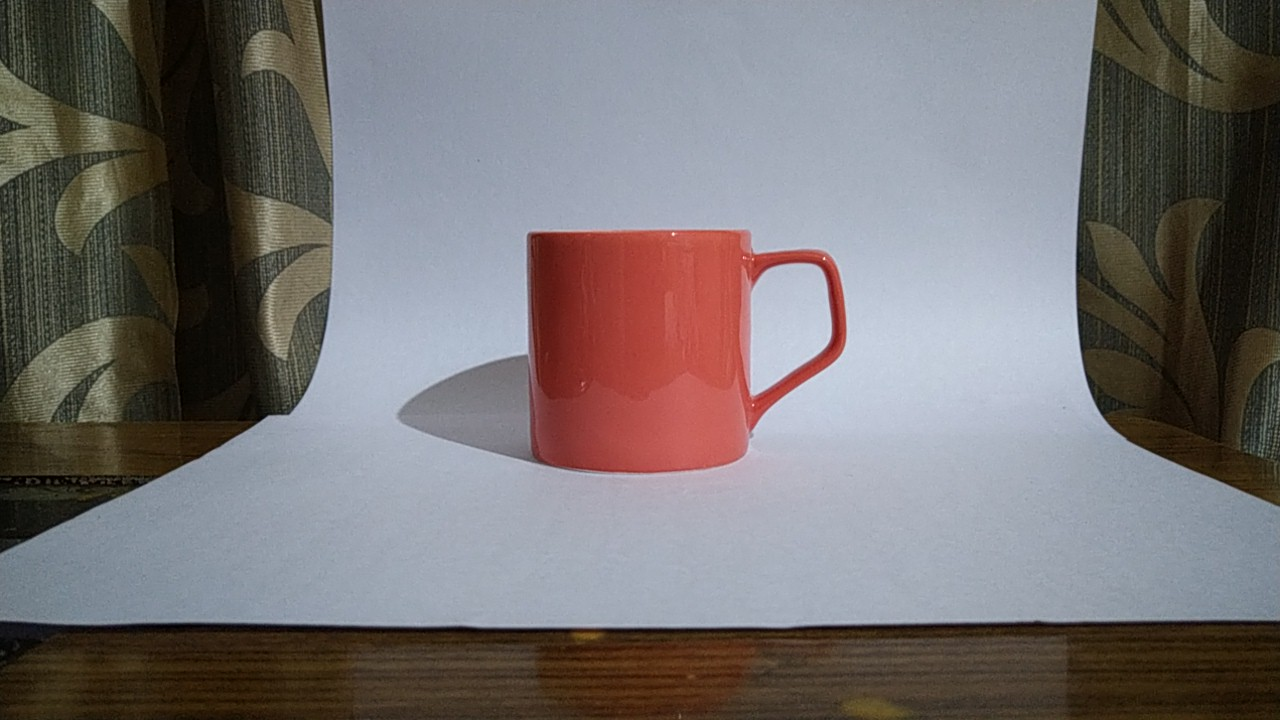cup: (501, 212, 857, 504)
